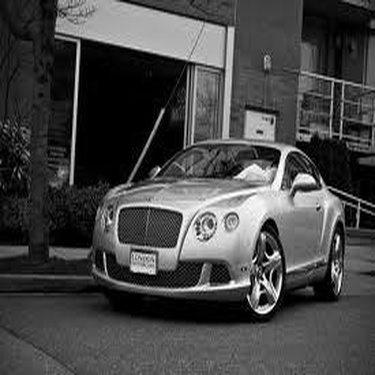car: (88, 124, 350, 326)
